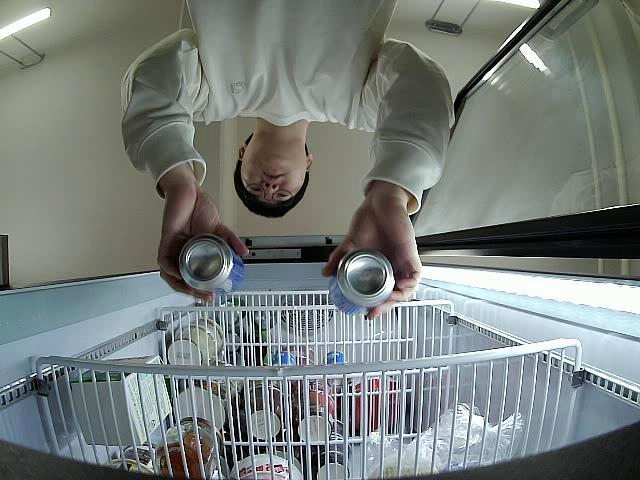13_pocariSweat: (326, 248, 396, 319), (177, 232, 246, 296)
